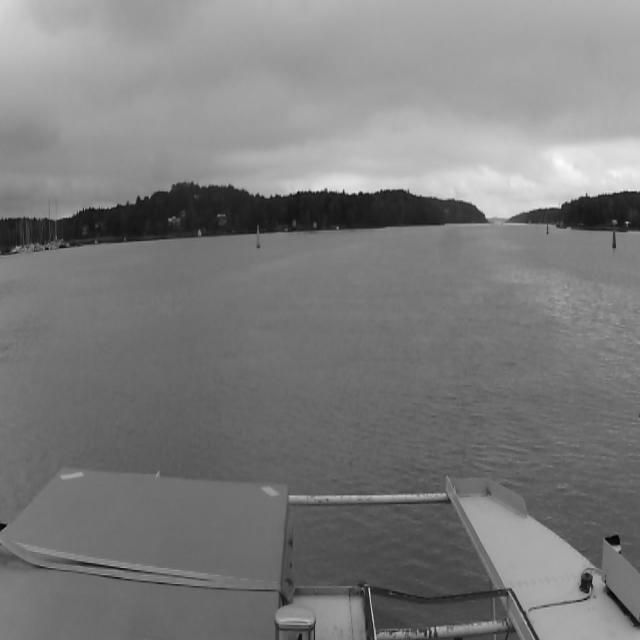buoy: (612, 225, 618, 249), (256, 227, 260, 247)
